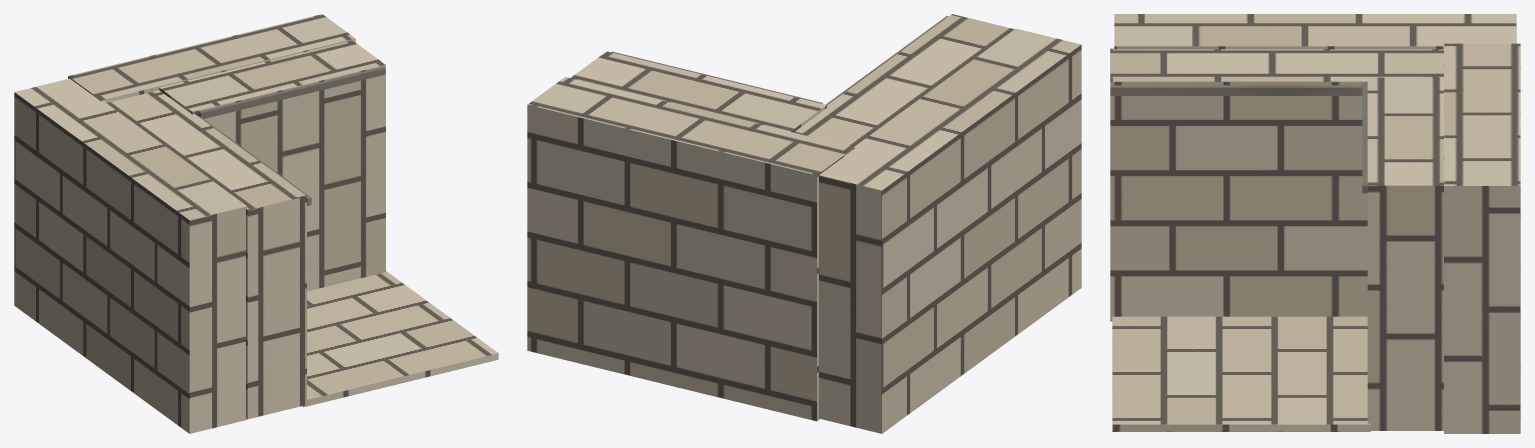
File: castle_tower.glb
The picture shows the model from 3 angles, left to right: view 1: azimuth 30°, elevation 25°; view 2: azimuth 150°, elevation 25°; view 3: azimuth 270°, elevation 25°; orthographic projection. The views are drawn at different scales.
Parts seen in each view (by area): view 1: castle_tower; view 2: castle_tower; view 3: castle_tower.
Part boxes in pixels (<box>): castle_tower: <box>14,14,498,433</box>; castle_tower: <box>527,14,1081,433</box>; castle_tower: <box>1110,14,1520,433</box>.
Size of the model in its own units: 4.02 by 2.68 by 4.02.
Materials: 1 (1 with a texture image).
